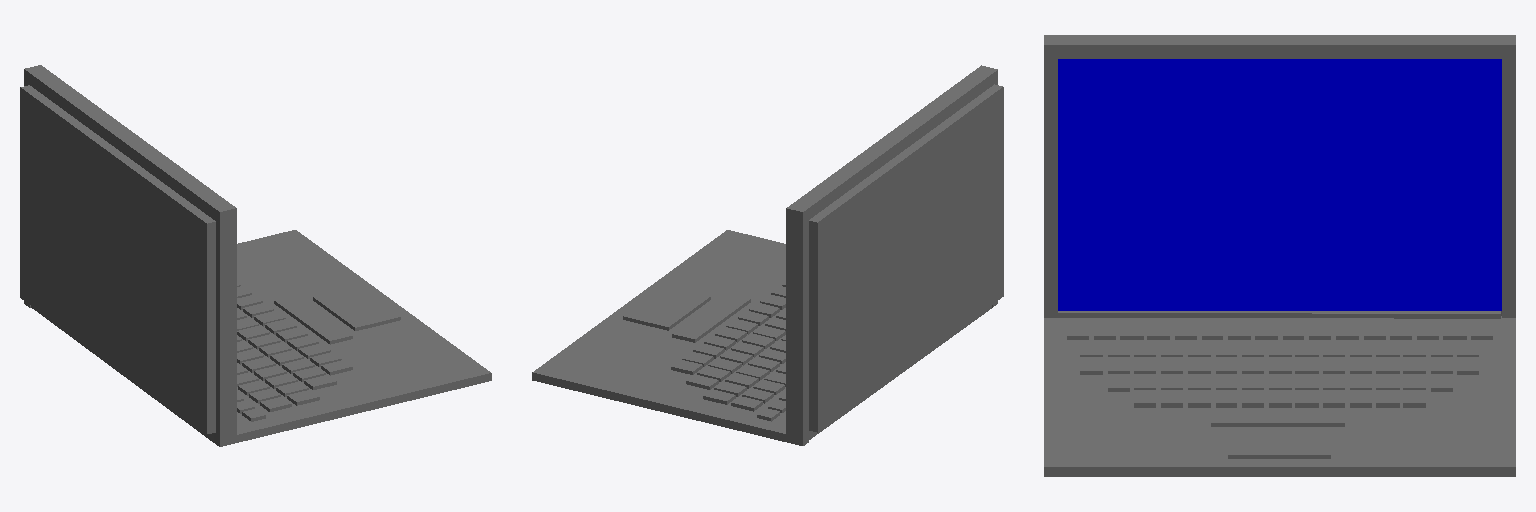
robot.urdf — computer:
<?xml version="1.0" ?>
<robot name="computer">

  <link name="baseLink">
    <contact>
      <lateral_friction value="1"/>
      <rolling_friction value="0"/>
      <contact_cfm value="0.0"/>
      <contact_erp value="1.0"/>
    </contact>

    <inertial>
      <origin rpy="0 0 0" xyz="0.0 0.0 0.0"/>
       <mass value="0.2"/>
       <inertia ixx="1" ixy="0" ixz="0" iyy="1" iyz="0" izz="1"/>
    </inertial>

    <visual>
      <origin rpy="0 0 1.5708" xyz="0 0 0"/>
      <geometry>
        <mesh filename="computer_base.obj" scale="1 1 1"/>
      </geometry>
      <material name="gray">
        <color rgba="0.5 0.5 0.5 1"/>
      </material>
    </visual>

    <collision>
      <origin rpy="0 0 1.5708" xyz="0 0 0"/>
      <geometry>
        <box size="0.3 0.2 0.01"/>
      </geometry>
    </collision>
    <collision>
      <origin rpy="0 0 1.5708" xyz="0 0 0"/>
      <geometry>
        <box size="0.3 0.2 0.01"/>
      </geometry>
    </collision>
  </link>

  <link name="screenLink">
    <inertial>
      <mass value="0.0"/>
      <inertia ixx="0" ixy="0" ixz="0" iyy="0" iyz="0" izz="0"/>
    </inertial>

    <visual>
      <origin rpy="0 0 1.5708" xyz="0 0 0"/>
      <geometry>
        <mesh filename="computer_screen.obj" scale="1 1 1"/>
      </geometry>
      <material name="blue">
        <color rgba="0.0 0.0 1.0 1"/>
      </material>
    </visual>
  </link>

  <joint name="base_to_screen" type="fixed">
    <parent link="baseLink"/>
    <child link="screenLink"/>
    <origin xyz="0 0 0" rpy="0 0 0"/>
  </joint>

</robot>

--- What the picture shows (computed from the rendered views, not written in the file) ---
3 views of the same robot in one strip: view 1: azimuth 30°, elevation 25°; view 2: azimuth 150°, elevation 25°; view 3: azimuth 270°, elevation 25° (orthographic).
Robot: computer — 2 links, 1 joints (1 fixed); root link baseLink; default pose: all joints at 0.
Links seen in each view (by area): view 1: baseLink; view 2: baseLink; view 3: screenLink, baseLink.
Link boxes in pixels (<box>): baseLink: <box>20,65,491,446</box>; baseLink: <box>532,65,1003,445</box>; screenLink: <box>1058,59,1501,310</box>; baseLink: <box>1044,35,1515,476</box>.
Bounding box of the posed robot: 0.25 × 0.302 × 0.2 m (x, y, z).
Meshes: 2 distinct files referenced, 2 mesh visuals loaded (2 OBJ).
